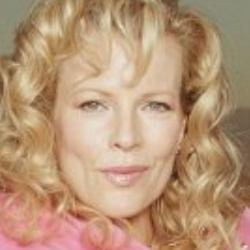face: (7, 6, 239, 240)
